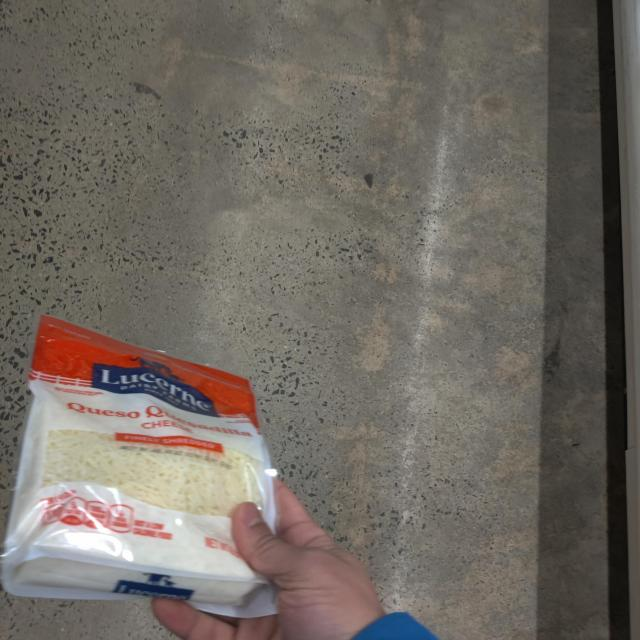Cheese: (3, 290, 308, 629)
